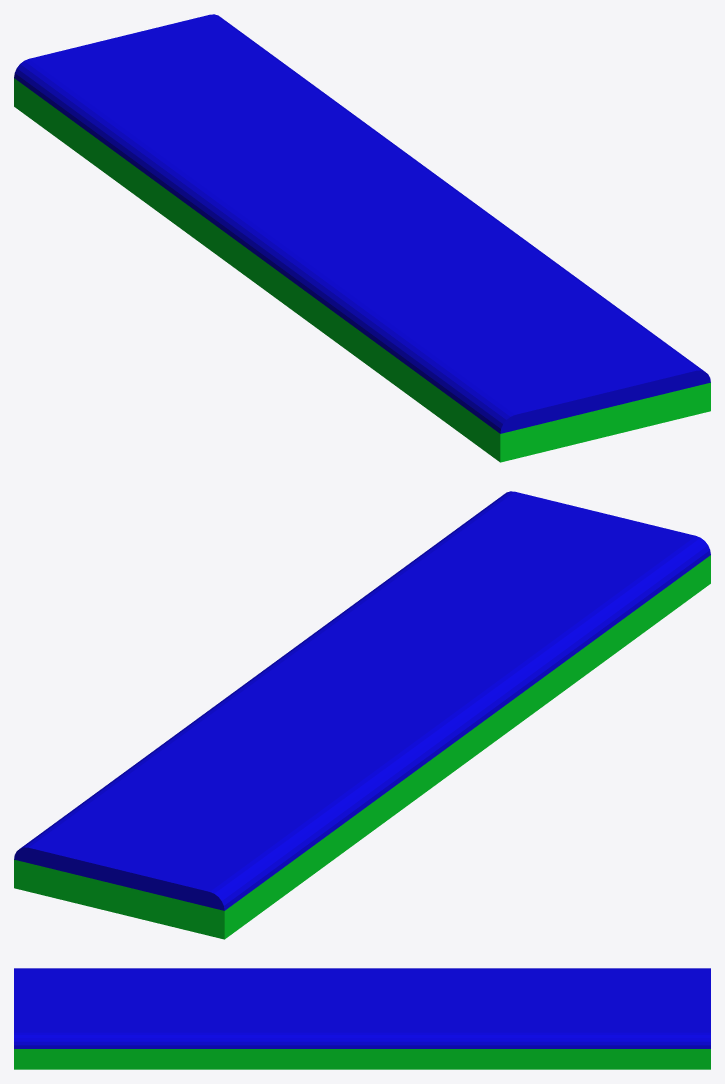
The picture shows the model from 3 angles, top to bottom: view 1: azimuth 30°, elevation 25°; view 2: azimuth 150°, elevation 25°; view 3: azimuth 270°, elevation 25°; orthographic projection. The views are drawn at different scales.
Visible parts, largest first — view 1: plank19; view 2: plank19; view 3: plank19.
Boxes of the visible parts, x1=… form: plank19: x1=14, y1=14, x2=710, y2=462; plank19: x1=14, y1=491, x2=710, y2=939; plank19: x1=14, y1=968, x2=710, y2=1069.
Size of the model in its own units: 500 by 100 by 2000.
